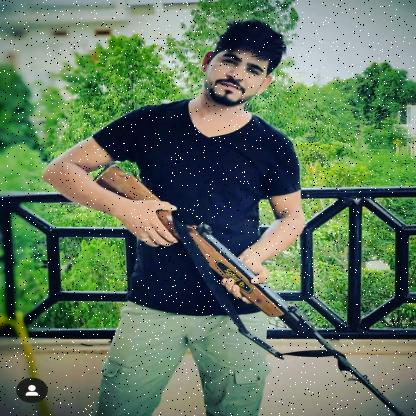rifle: (93, 160, 404, 416)
